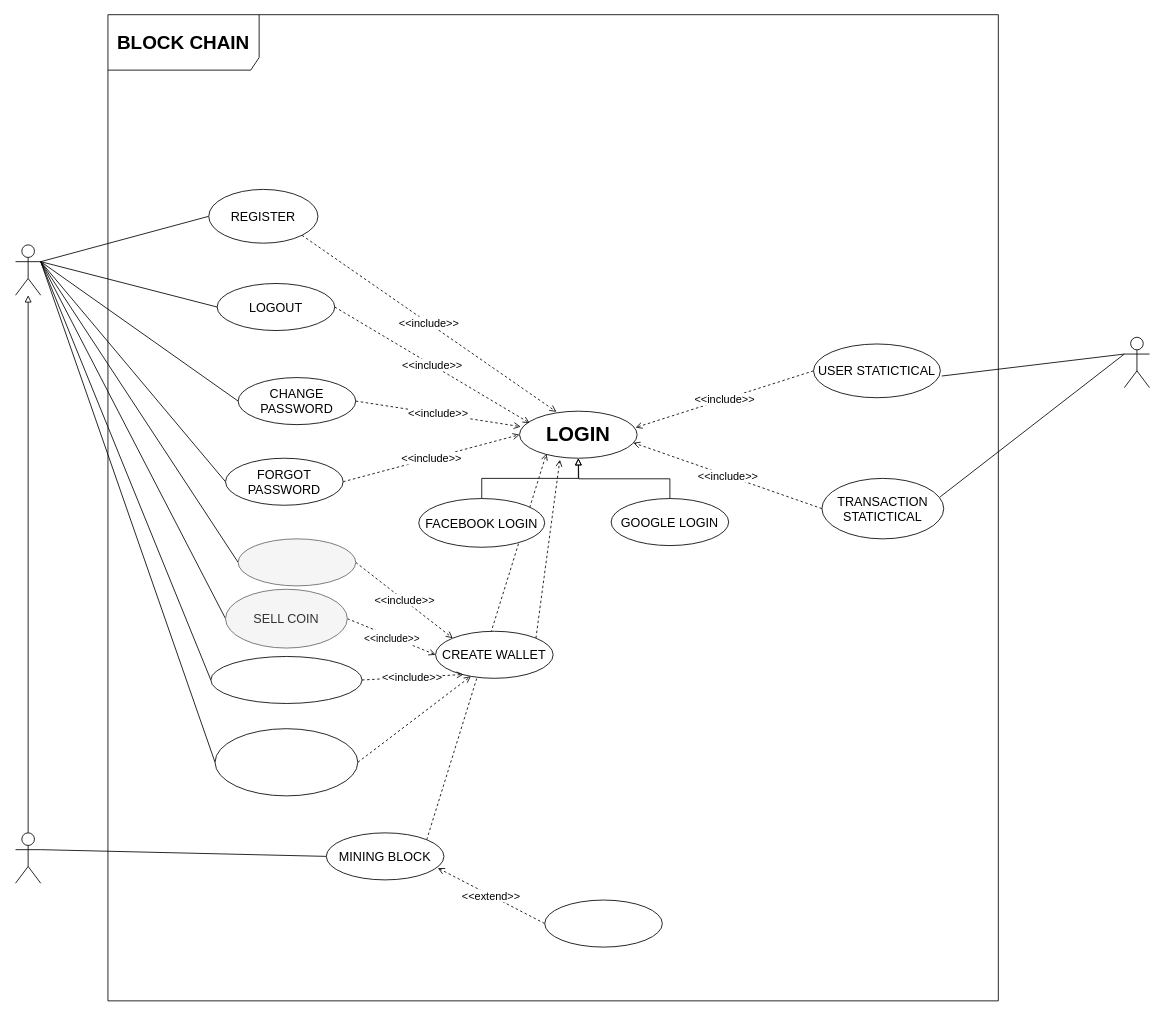
The diagram is 1167 pixels wide and 1016 high, and some of its shapes have lost their labels. The shapes that lost their labels are listed below. From the top down, each one's centre as x and y in pixels, then its label:
(28,269): User
(1137,362): Admin
(296,562): BUY COIN
(286,680): SEND TRANSACTION
(286,762): SHOW HISTORY
(28,857): Miner
(603,923): RECEIVE PRIZE
